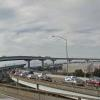Bridge: (4, 43, 86, 70)
